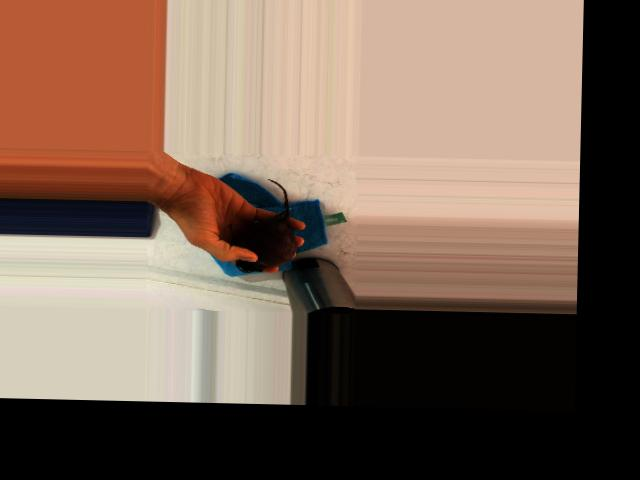beet: (229, 178, 298, 273)
